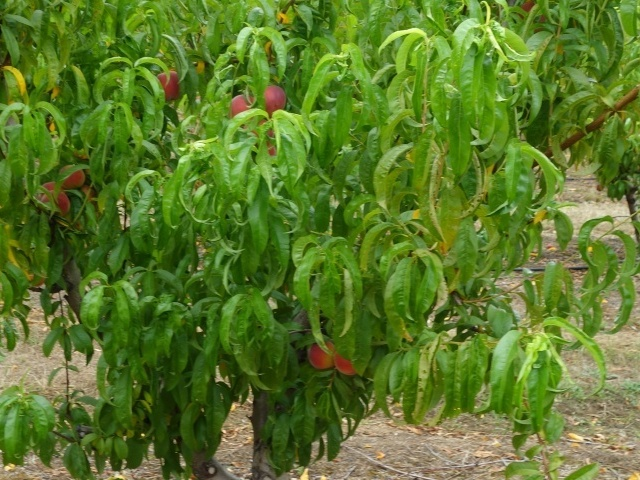peach: (221, 91, 259, 124), (303, 334, 336, 372), (256, 85, 289, 117), (150, 70, 184, 101), (328, 345, 358, 379), (37, 187, 71, 216), (58, 163, 88, 192)
